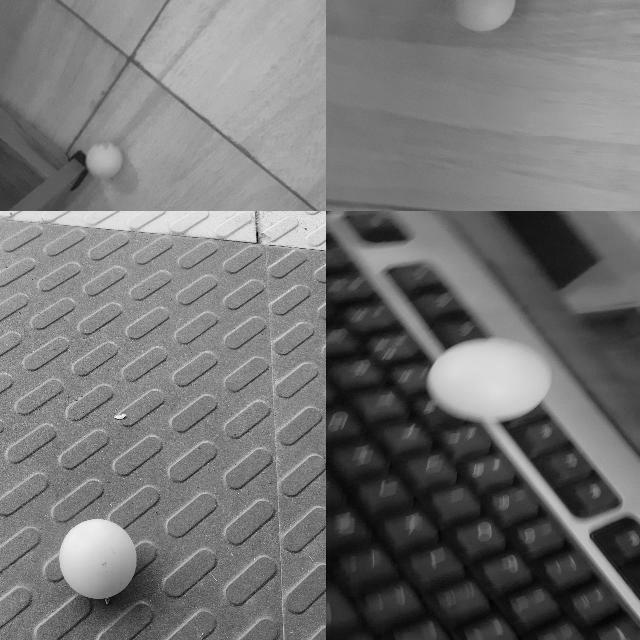ping-pong-ball: (430, 336, 550, 422), (59, 518, 138, 600), (443, 0, 515, 31), (86, 143, 122, 179)
